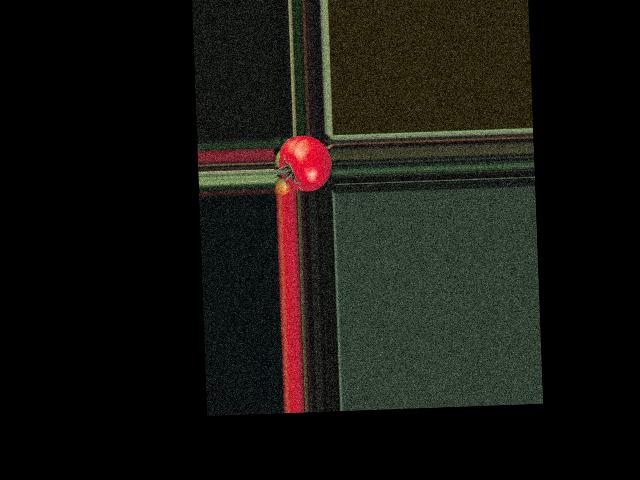tomato: (278, 134, 333, 191)
